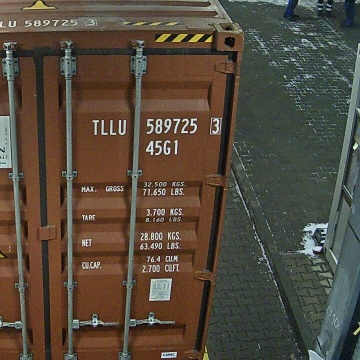serial_id: (92, 118, 219, 135)
